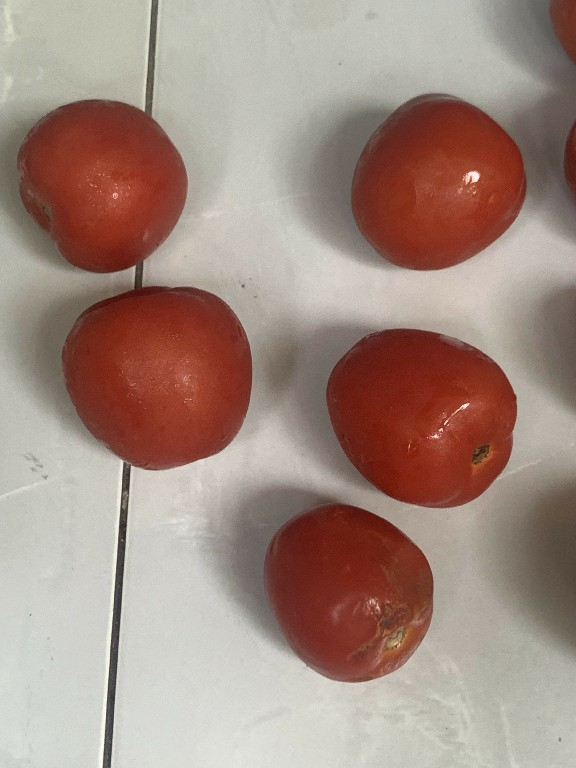NG: (253, 495, 440, 690)
OK: (322, 79, 543, 287), (314, 313, 529, 519), (51, 279, 272, 474), (10, 86, 192, 285)
